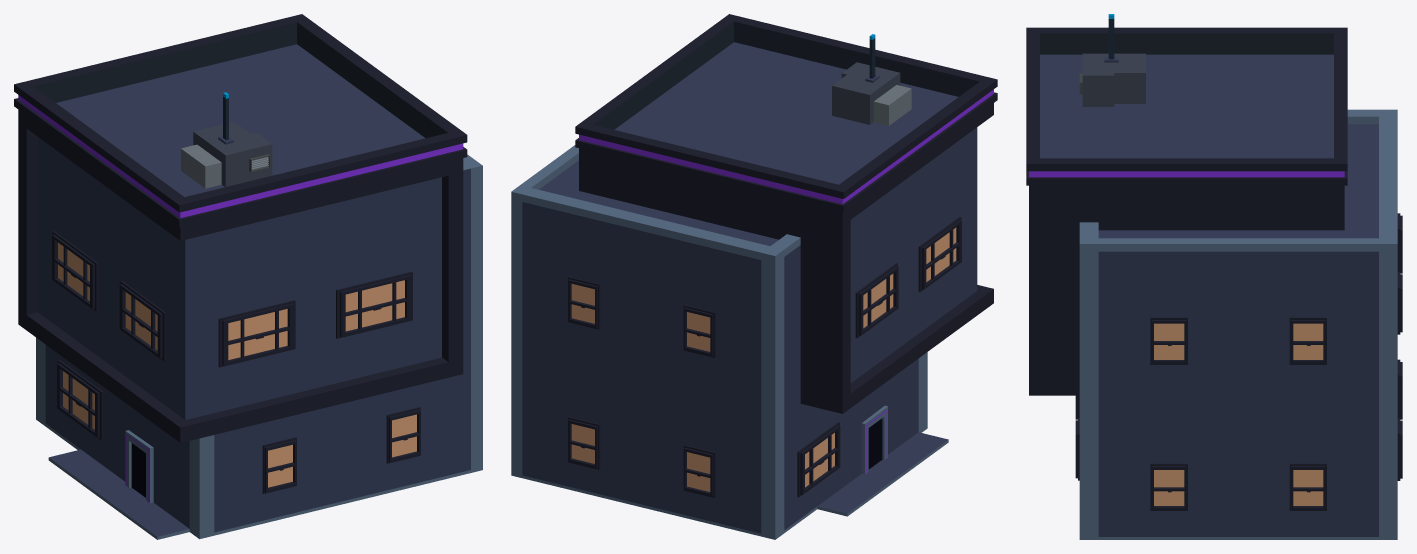
The model's file is Building_Small08.fbx.
The picture shows the model from 3 angles, left to right: view 1: azimuth 30°, elevation 25°; view 2: azimuth 150°, elevation 25°; view 3: azimuth 270°, elevation 25°; orthographic projection. The views are drawn at different scales.
Visible parts, largest first — view 1: Cube.552; view 2: Cube.552; view 3: Cube.552.
Part boxes in pixels (x1=…): Cube.552: x1=14, y1=14, x2=482, y2=539; Cube.552: x1=511, y1=14, x2=997, y2=539; Cube.552: x1=1026, y1=14, x2=1402, y2=539.
Size of the model in its own units: 990 by 1197 by 993.
